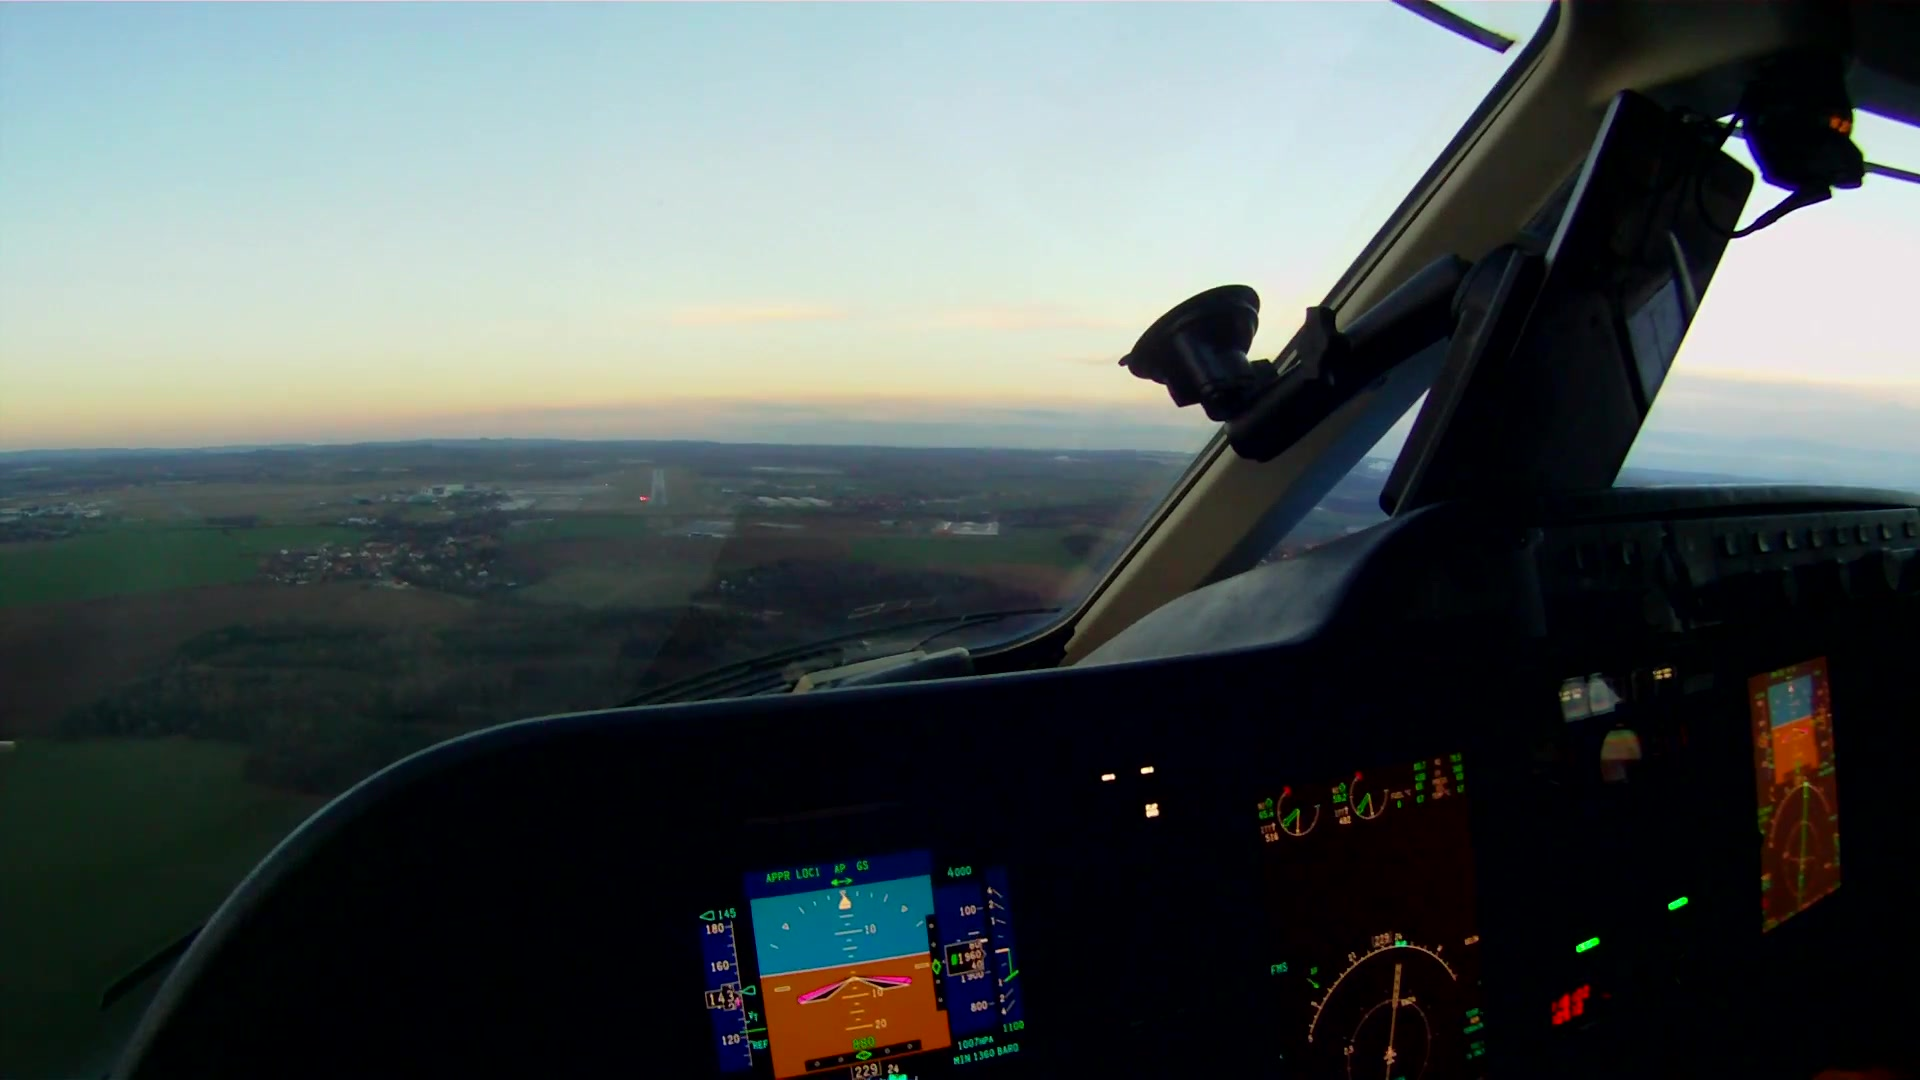runway: (644, 463, 675, 512)
